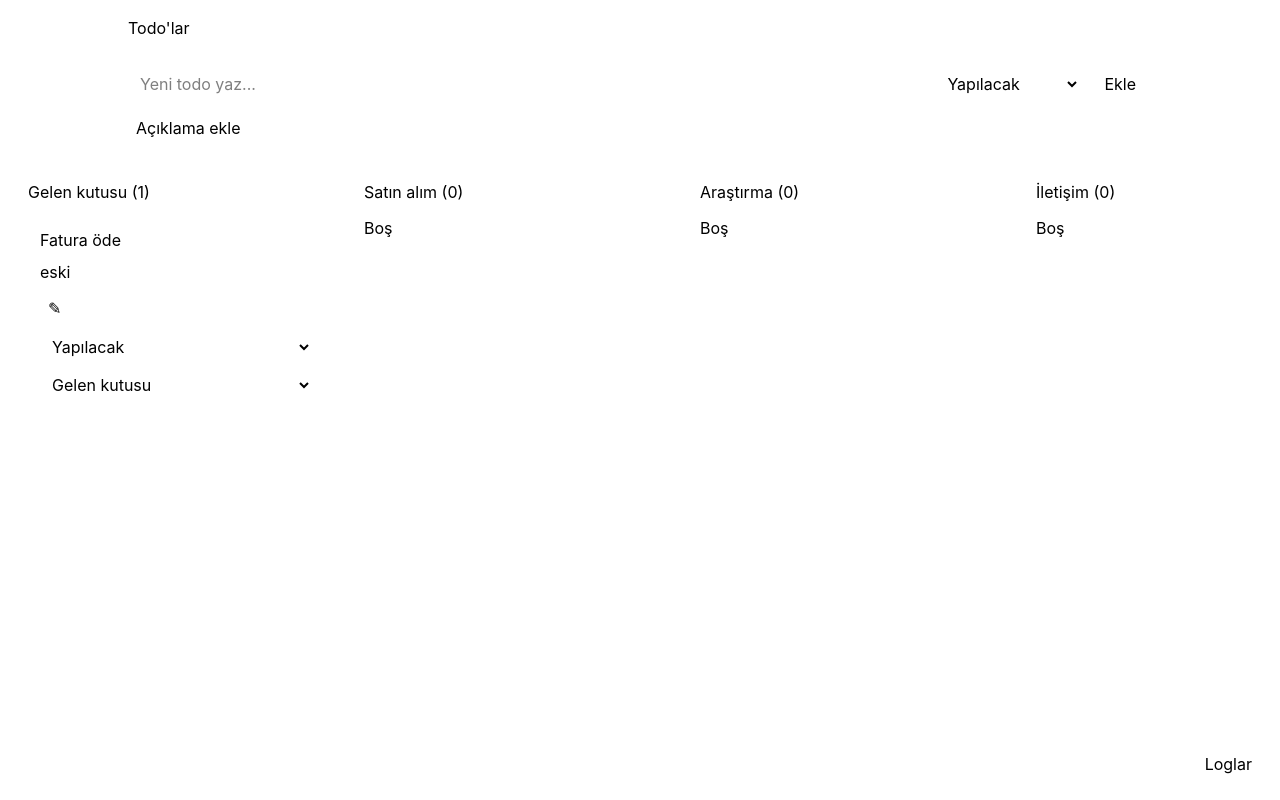
Test case: card description › sends nothing when the edit is cancelled with Vazgeç
Expected: the heading "Fatura öde" is shown, [40, 230, 121, 250]
Click the button named "Açıklamayı düzenle" at point(55, 308), box [40, 292, 69, 324]
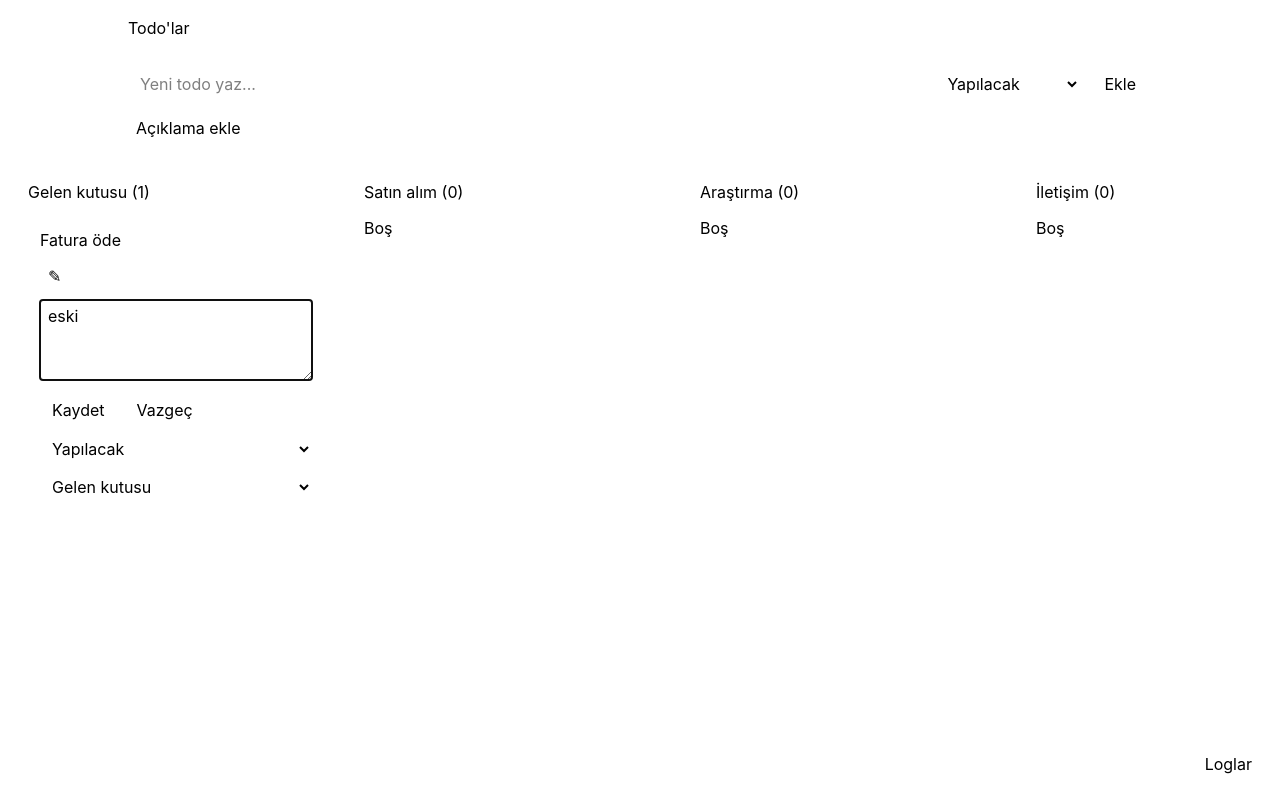
Type " ve daha fazlası" into the text box named "Fatura öde açıklaması" at point(176, 340), box [40, 300, 312, 380]
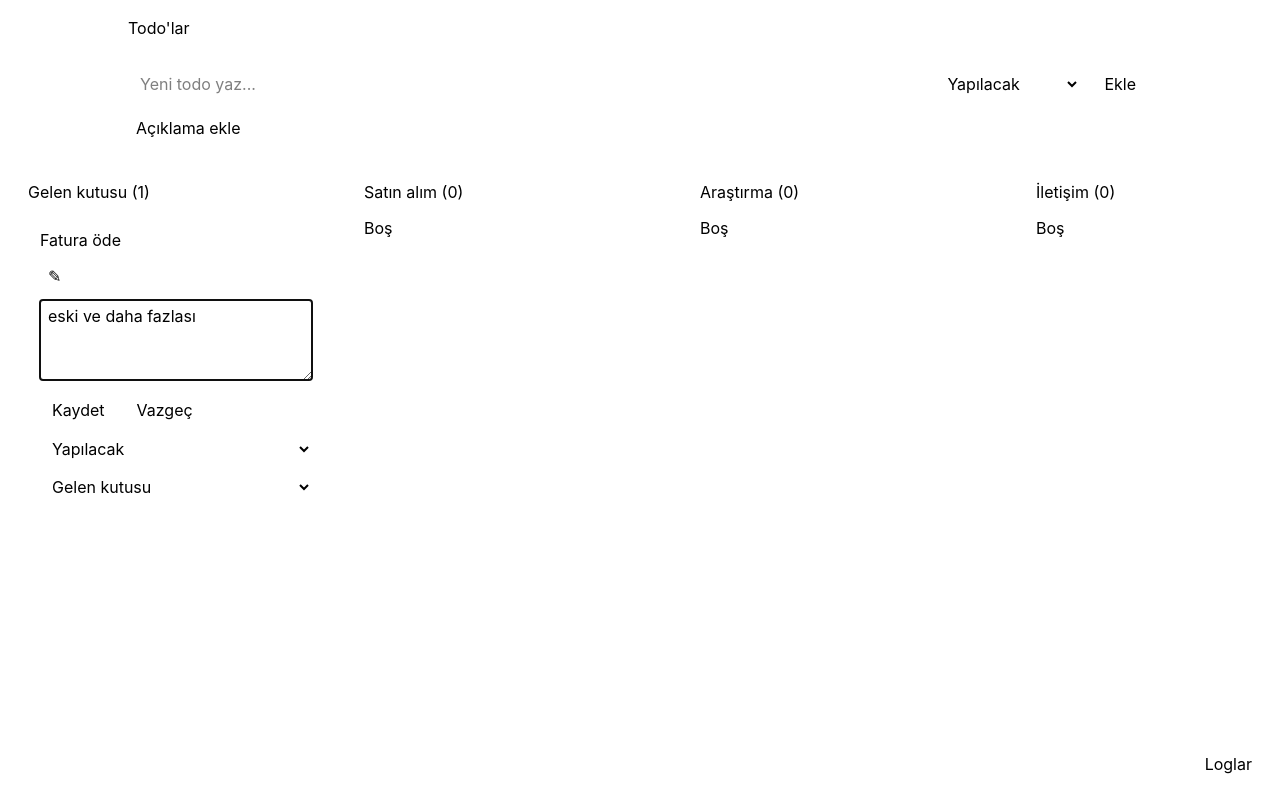
Click the button "Vazgeç" at point(165, 410), box [124, 394, 205, 426]
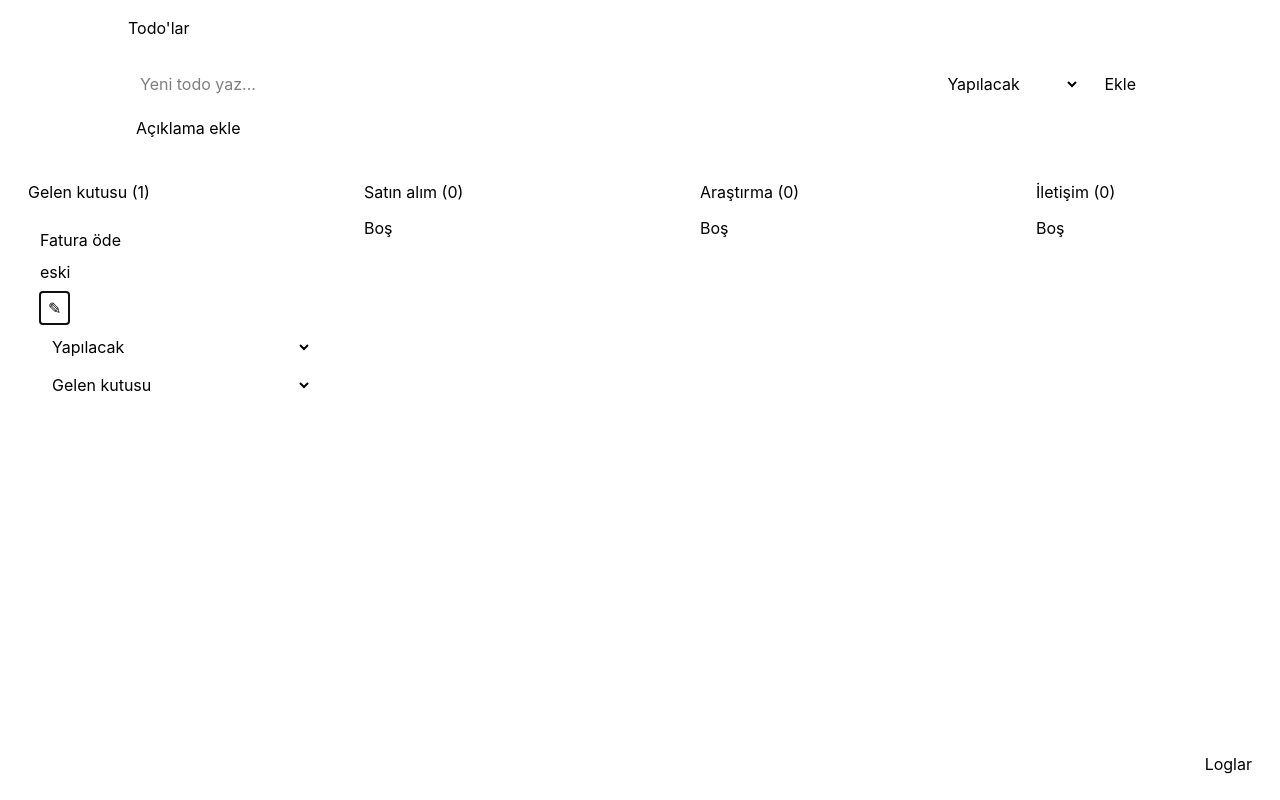
Note: Opening the editor again starts from the saved text, not from the abandoned one.
Click the button named "Açıklamayı düzenle" at point(55, 308), box [40, 292, 69, 324]
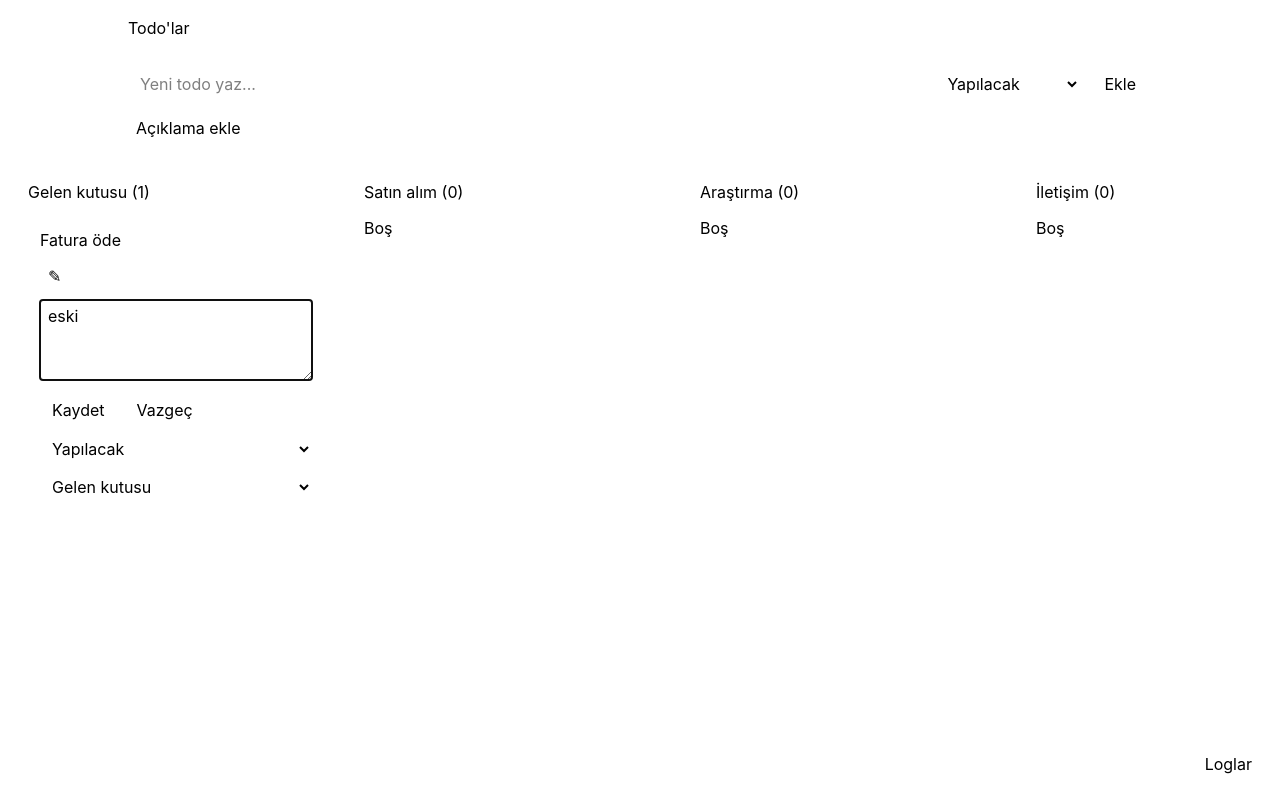
Result: the text box named "Fatura öde açıklaması" holds "eski" at [40, 300, 312, 380]
